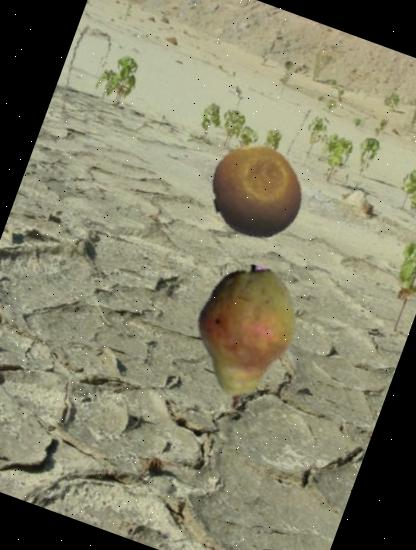Kumquats: (195, 130, 318, 253)
Pear: (151, 244, 336, 429)
